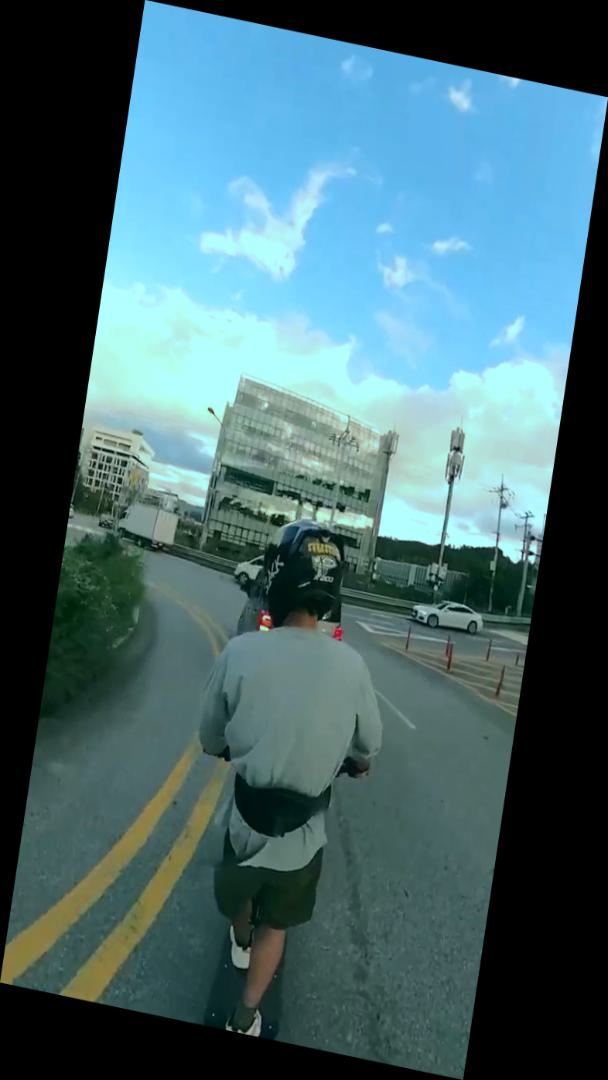helmet: (149, 501, 418, 1055)
